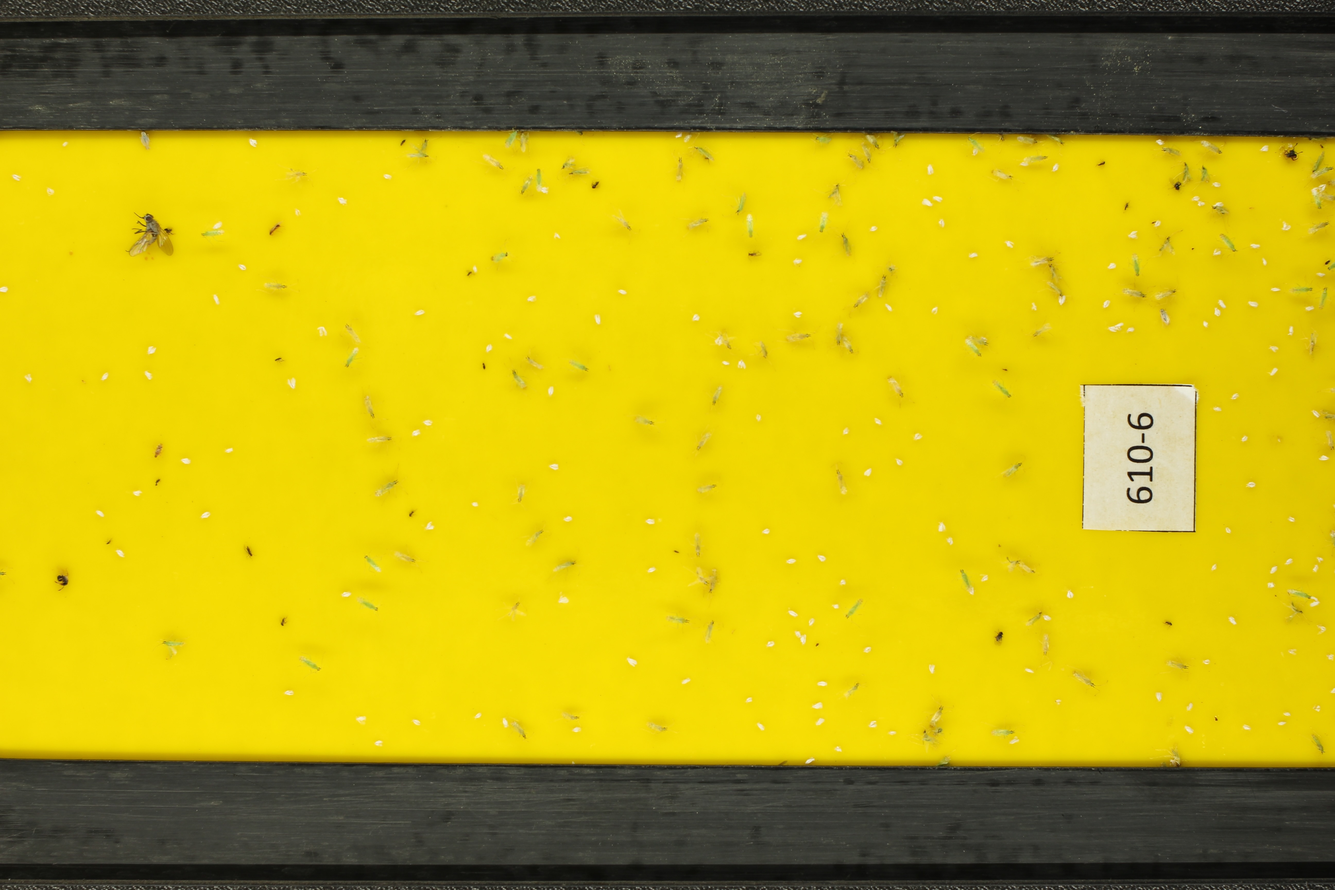MR: (364, 461, 408, 507), (254, 270, 306, 304), (1068, 666, 1115, 703), (823, 454, 857, 504), (993, 453, 1035, 487), (152, 629, 190, 666), (389, 541, 428, 576), (687, 472, 728, 504), (919, 691, 954, 727), (1160, 649, 1196, 682), (359, 545, 391, 582), (289, 646, 328, 676), (547, 552, 589, 579), (683, 526, 713, 563), (355, 389, 386, 424), (641, 713, 677, 743), (660, 606, 696, 635), (845, 591, 869, 630), (354, 592, 384, 622), (500, 594, 529, 625), (1306, 722, 1330, 759), (517, 521, 547, 550), (398, 150, 437, 172), (269, 314, 300, 341), (193, 230, 236, 249), (341, 344, 367, 375), (1036, 628, 1057, 666), (509, 474, 530, 511), (700, 615, 722, 650), (981, 720, 1024, 737), (360, 429, 400, 447), (689, 564, 710, 598), (510, 714, 532, 746), (554, 705, 591, 724), (339, 318, 365, 345), (841, 675, 863, 705), (1286, 582, 1312, 604), (955, 565, 976, 591), (707, 566, 721, 601), (1022, 605, 1042, 629), (413, 135, 430, 152)
WF: (1254, 140, 1275, 158), (918, 196, 937, 210), (1317, 452, 1333, 467), (790, 254, 806, 269), (626, 654, 640, 671), (1307, 407, 1324, 421), (352, 714, 370, 727), (612, 284, 630, 297), (591, 310, 604, 328), (286, 375, 298, 394), (314, 323, 329, 338), (145, 342, 160, 357), (860, 466, 874, 482), (755, 719, 771, 733), (1226, 613, 1239, 630), (1106, 322, 1126, 333), (879, 302, 897, 314), (1008, 734, 1022, 749), (1245, 297, 1260, 311), (1284, 325, 1299, 339), (688, 312, 704, 325), (752, 410, 765, 426), (867, 222, 883, 235), (1151, 135, 1168, 147), (501, 330, 518, 342), (1312, 269, 1329, 281), (1266, 284, 1284, 295), (865, 716, 879, 730), (1238, 432, 1252, 446), (22, 369, 35, 384), (141, 369, 156, 382), (645, 513, 658, 528), (911, 430, 926, 443), (470, 262, 483, 277), (537, 184, 552, 197), (736, 359, 751, 372), (936, 519, 948, 535), (247, 136, 261, 149), (336, 194, 349, 208), (93, 507, 107, 520), (815, 677, 828, 691), (814, 715, 828, 728), (1022, 664, 1036, 677), (1182, 724, 1196, 737), (1283, 555, 1296, 569), (967, 250, 980, 264), (1152, 217, 1166, 230), (1126, 324, 1140, 337), (925, 164, 938, 178), (719, 357, 733, 370), (1102, 298, 1115, 312), (1259, 255, 1273, 268), (557, 593, 572, 605), (784, 555, 799, 567), (785, 607, 800, 619), (861, 642, 873, 657), (1264, 579, 1279, 591), (712, 335, 727, 347), (1056, 294, 1071, 306), (1211, 305, 1226, 317), (525, 292, 540, 304), (546, 384, 558, 399), (425, 520, 436, 536), (1217, 297, 1230, 310), (413, 306, 427, 318), (834, 743, 846, 757), (221, 287, 233, 301), (1105, 260, 1119, 272), (1211, 404, 1225, 416), (1229, 389, 1241, 403), (482, 342, 496, 354), (1280, 221, 1294, 233), (811, 699, 826, 710), (1308, 600, 1323, 611), (927, 305, 942, 316), (1027, 302, 1042, 313), (1210, 178, 1225, 189), (99, 371, 115, 381), (209, 220, 225, 230), (796, 233, 812, 243), (114, 549, 127, 561), (200, 508, 213, 520), (547, 461, 560, 473), (681, 675, 693, 688), (894, 457, 906, 470), (1244, 479, 1257, 491), (871, 415, 884, 427), (1050, 162, 1063, 174), (1268, 367, 1281, 379), (236, 261, 247, 275), (178, 455, 192, 466), (470, 710, 484, 721), (807, 615, 818, 629), (1302, 303, 1316, 314), (1268, 345, 1282, 356), (1210, 561, 1220, 576), (1002, 239, 1017, 249), (219, 447, 237, 455), (816, 552, 828, 564), (925, 662, 937, 674), (1286, 645, 1298, 657), (840, 425, 852, 437), (1211, 246, 1223, 258), (382, 171, 395, 182), (410, 716, 421, 729), (561, 513, 574, 524), (792, 309, 805, 320), (409, 428, 423, 438), (131, 488, 145, 498), (804, 756, 818, 766), (1248, 239, 1262, 249), (211, 292, 220, 307), (500, 716, 509, 731), (1066, 587, 1075, 602), (372, 737, 384, 748), (765, 638, 777, 649), (1316, 623, 1327, 635), (1268, 563, 1279, 575), (340, 589, 353, 599), (1186, 701, 1196, 714), (1314, 554, 1327, 564), (829, 602, 843, 611), (1310, 564, 1321, 575), (1200, 318, 1211, 329), (60, 140, 72, 150), (1126, 229, 1138, 239), (571, 725, 584, 734), (644, 565, 657, 574), (1154, 690, 1163, 703), (800, 632, 808, 646), (947, 534, 955, 548), (1202, 656, 1212, 667), (1240, 722, 1251, 732), (1313, 703, 1323, 714), (1325, 652, 1335, 663), (1309, 593, 1320, 603), (11, 172, 23, 181), (932, 193, 944, 202), (1196, 200, 1209, 208), (887, 729, 897, 739), (1042, 613, 1052, 623), (980, 573, 990, 583), (0, 285, 9, 296), (45, 187, 56, 196), (422, 418, 433, 427), (762, 526, 771, 537), (838, 578, 849, 587), (1286, 515, 1297, 524), (937, 219, 948, 228), (554, 232, 565, 241), (1053, 697, 1062, 707), (968, 587, 977, 597), (284, 688, 295, 696), (469, 500, 480, 508), (794, 629, 802, 640), (1283, 710, 1294, 718), (1223, 525, 1231, 536), (1191, 194, 1202, 202), (744, 696, 756, 703), (1277, 720, 1289, 727), (294, 207, 302, 217), (1328, 684, 1335, 694)
